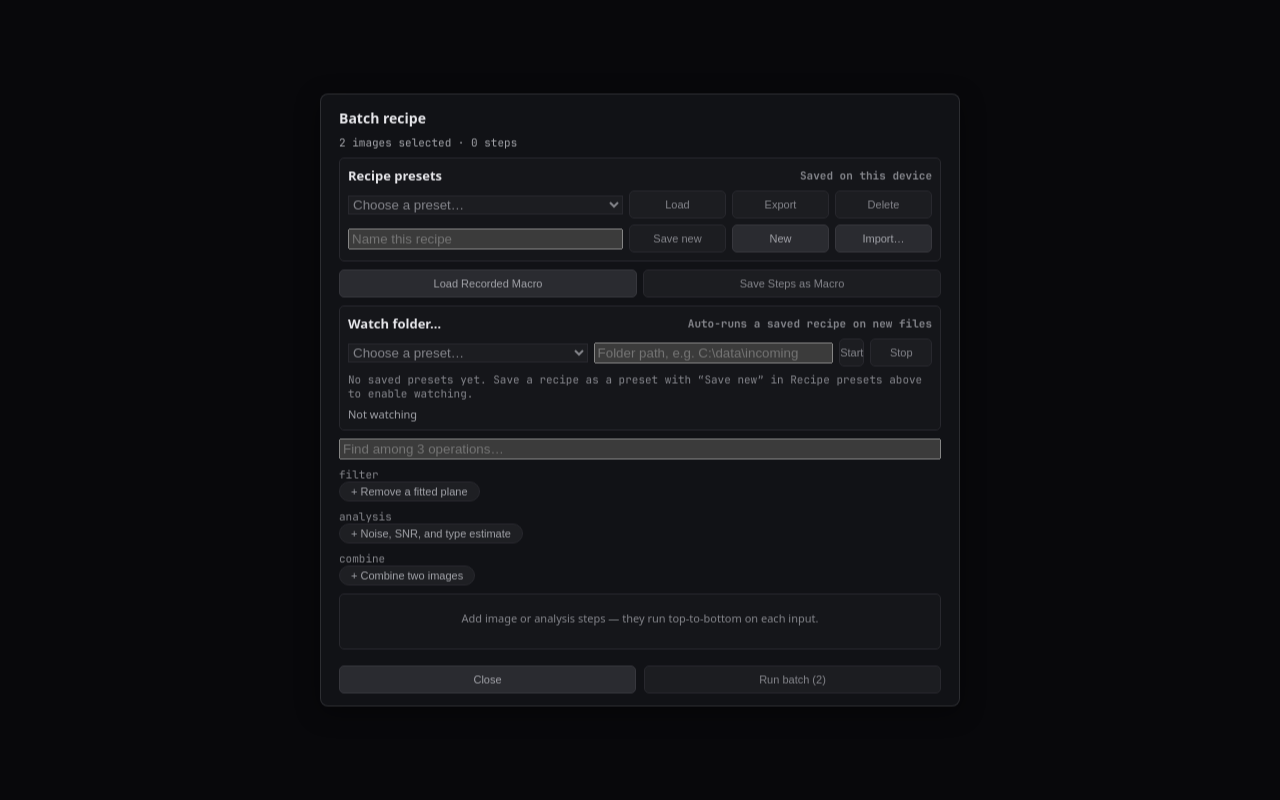
Test: BatchDialog › saves and restores the current recipe as a named preset
Click the button "+ Remove a fitted plane": (409, 492) [339, 482, 480, 502]
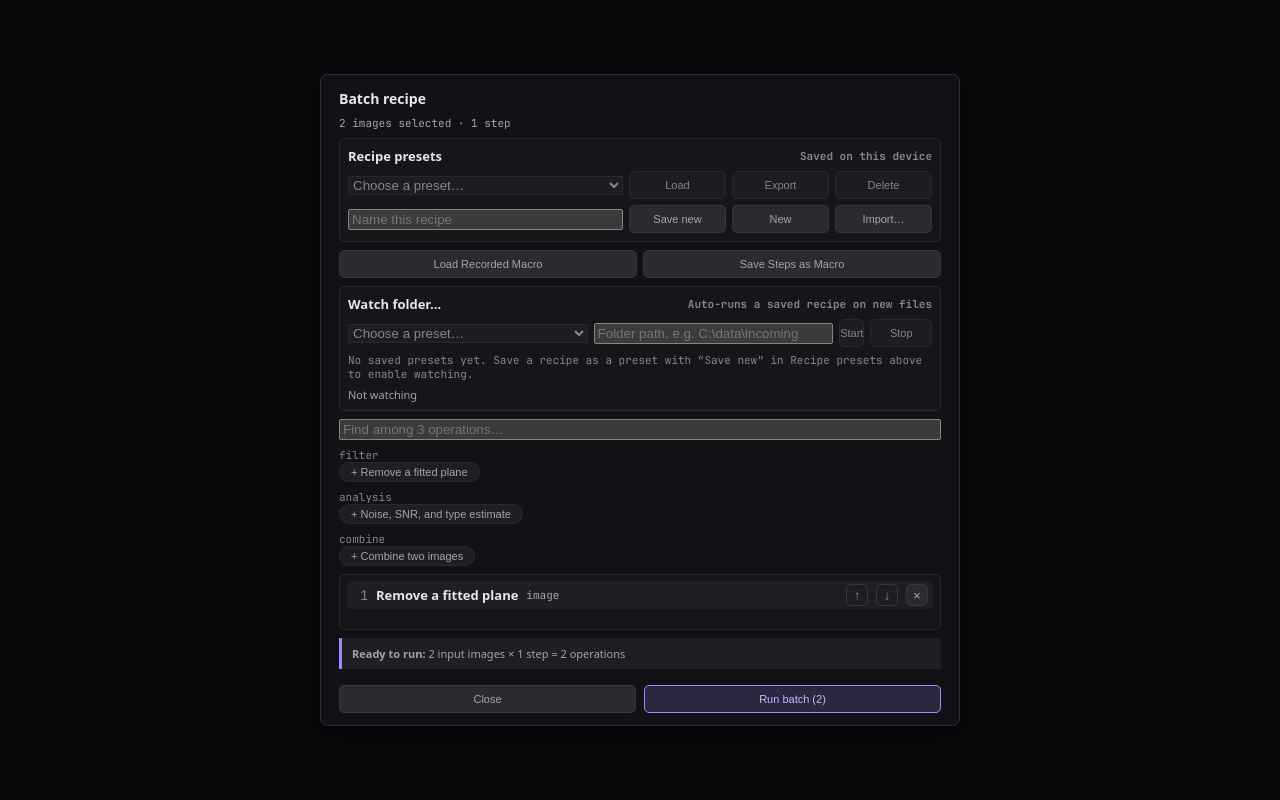
In the field named "Preset name": (486, 219) [348, 208, 623, 230], type "Level first"
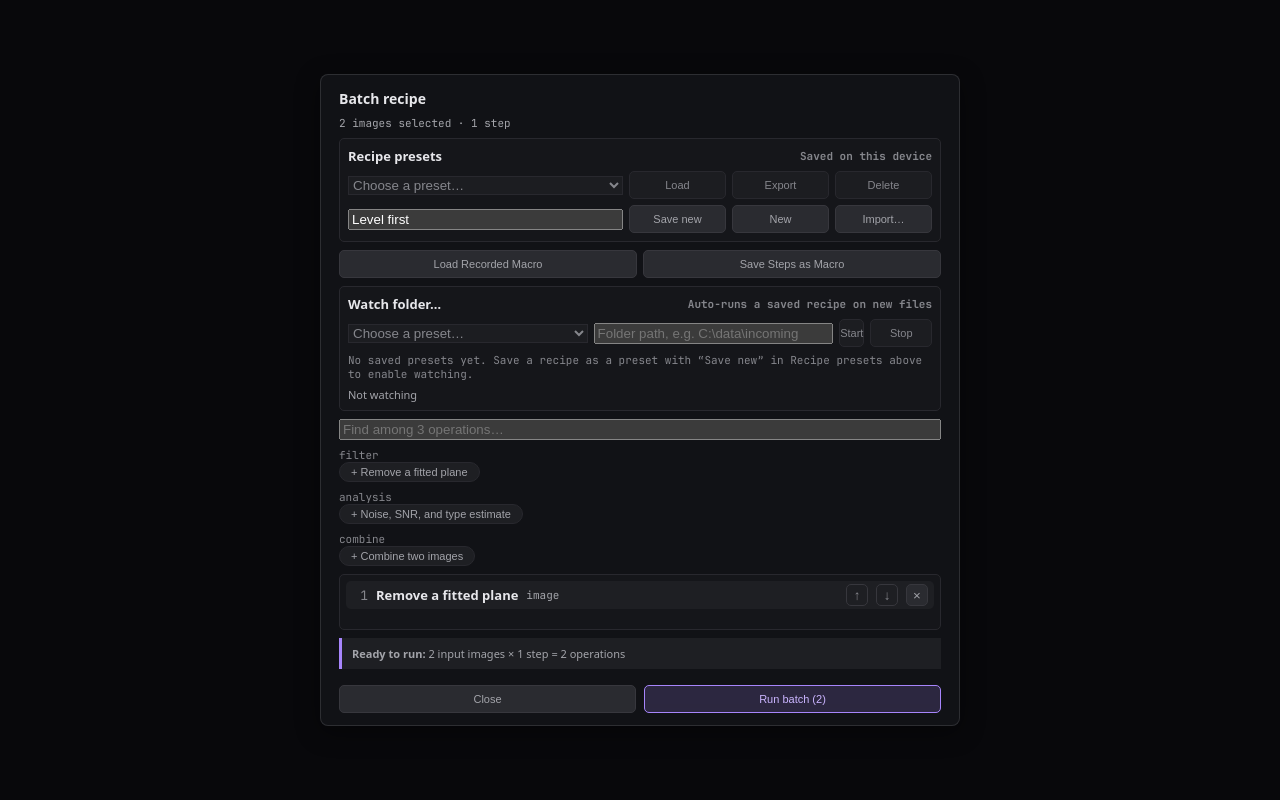
Click the button "Save new": (678, 219) [629, 205, 726, 233]
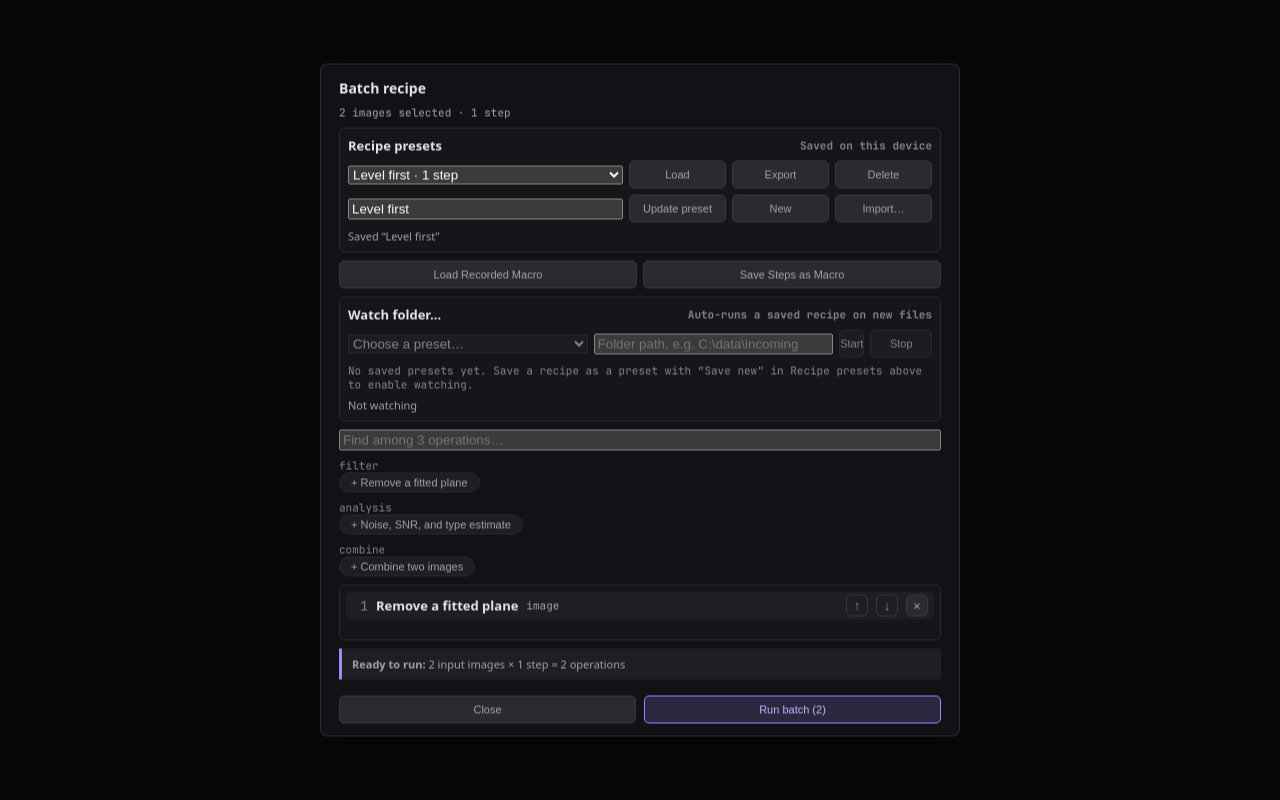
Expected: the message reads "Saved “Level first”", [348, 228, 439, 244]
Click the button titled "Remove step": (917, 606) [906, 594, 928, 616]
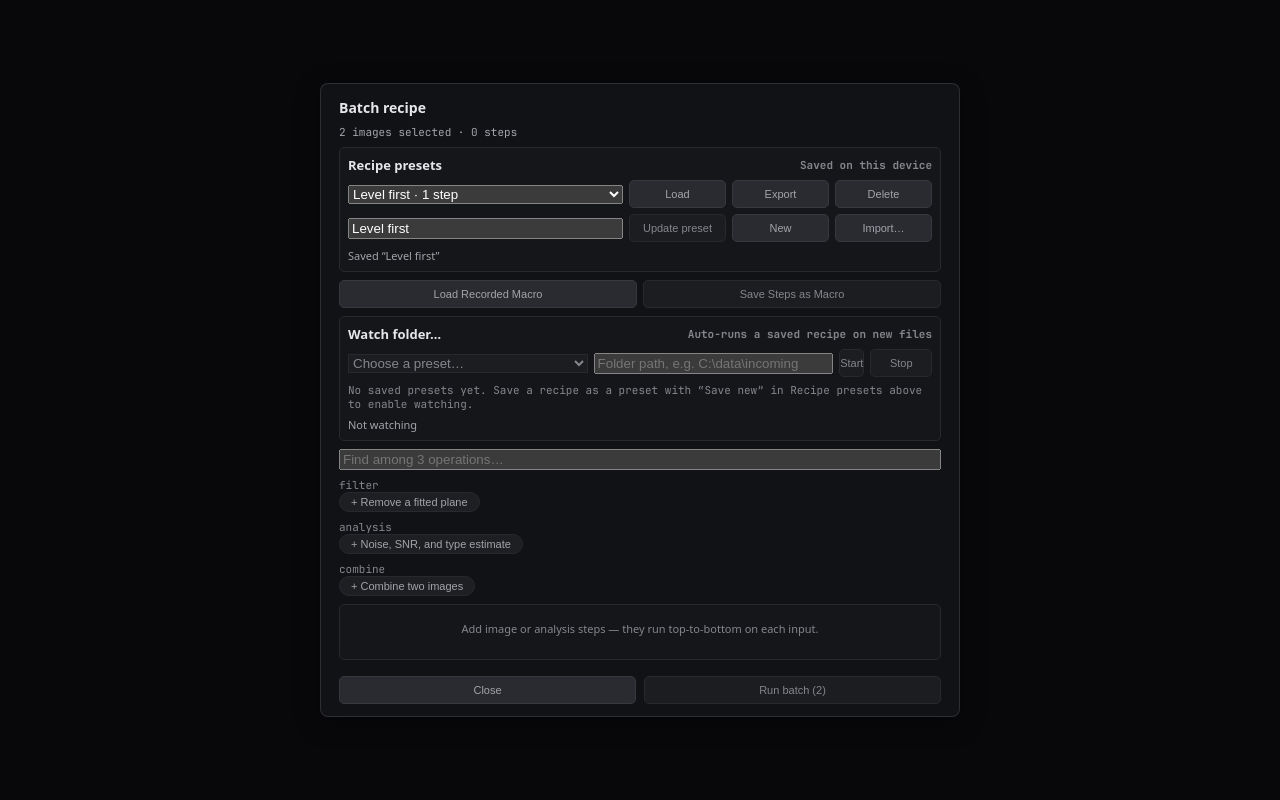
Click the button "Load": (678, 194) [629, 180, 726, 208]
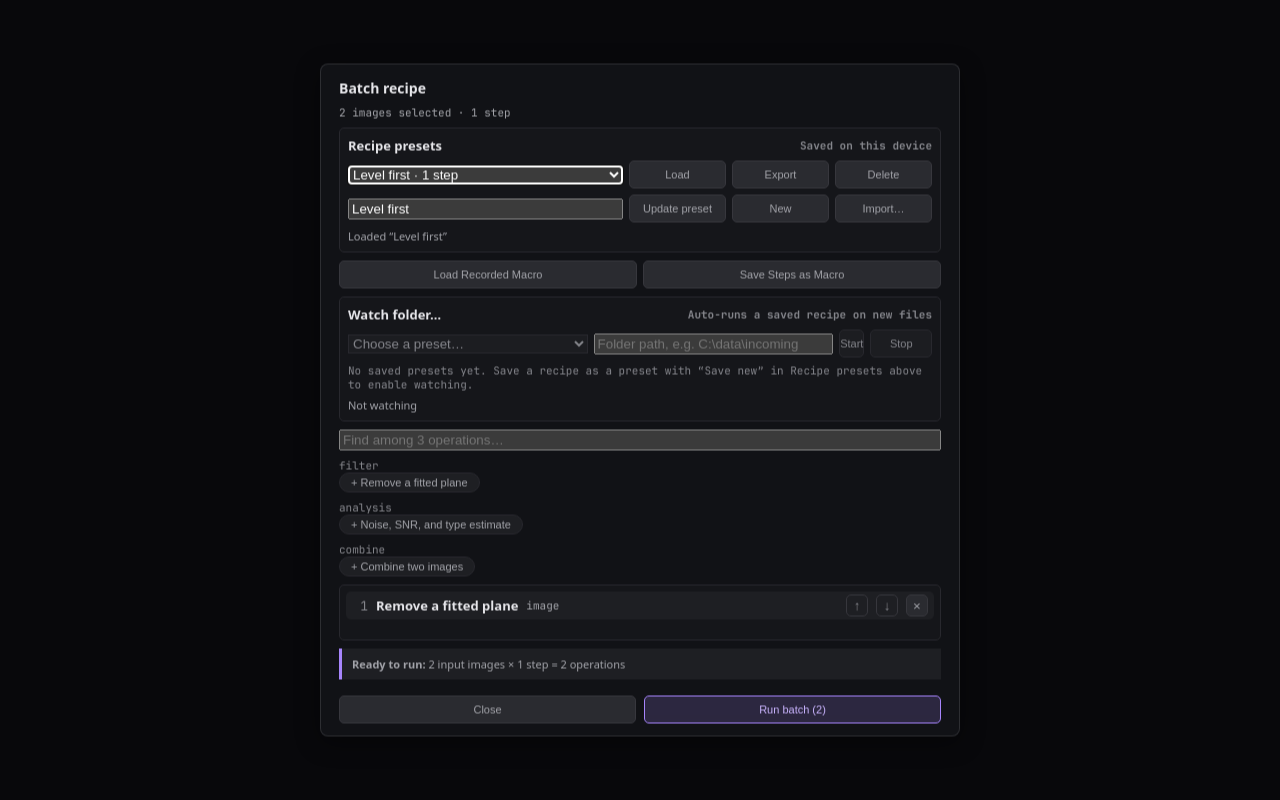
Expected: the text "Remove a fitted plane" is shown, [376, 596, 518, 614]
